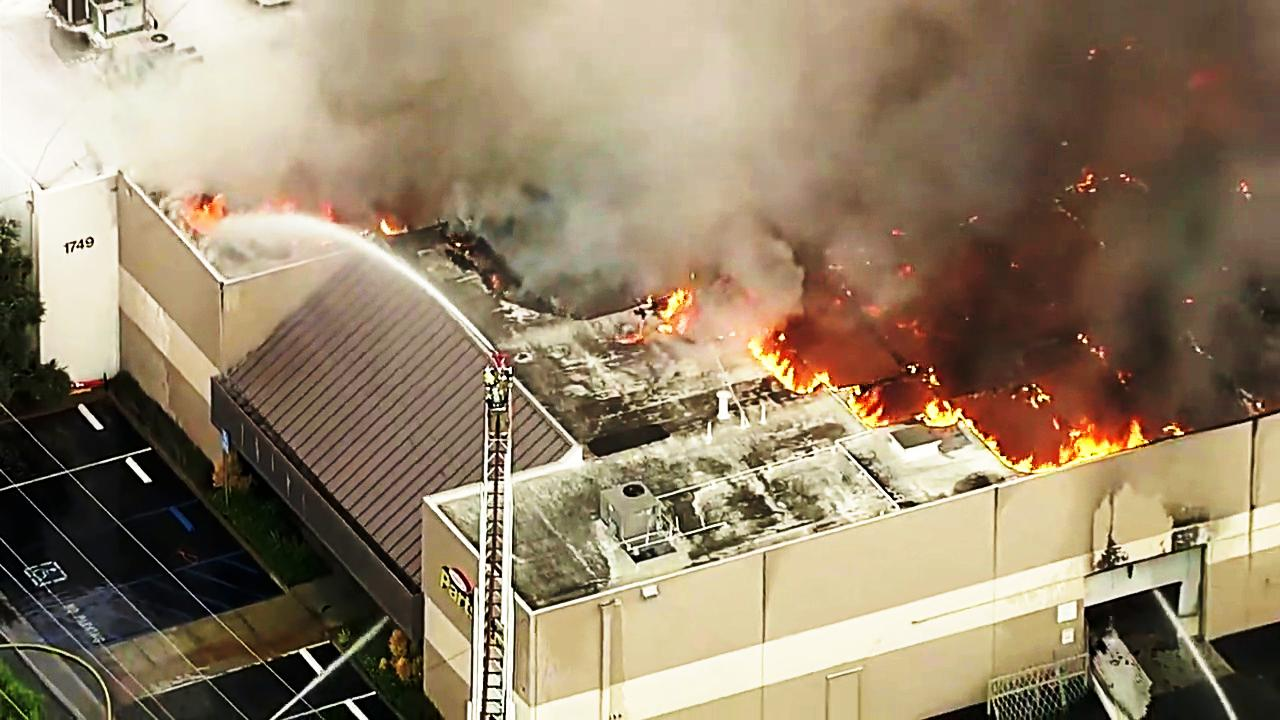smoke: (635, 0, 1175, 220)
